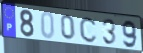0: (39, 11, 56, 41), (60, 14, 77, 42)
3: (101, 18, 117, 46)
8: (19, 9, 36, 39)
9: (121, 20, 139, 49)
C: (79, 16, 98, 44)
